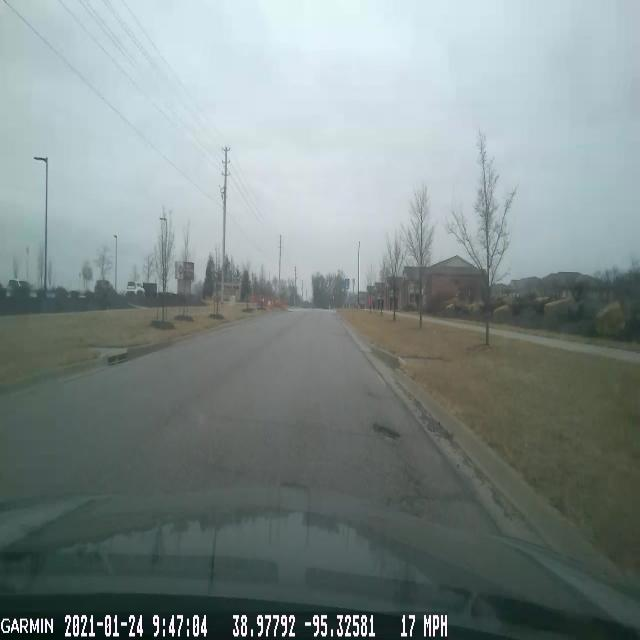Pothole: (368, 416, 404, 443)
